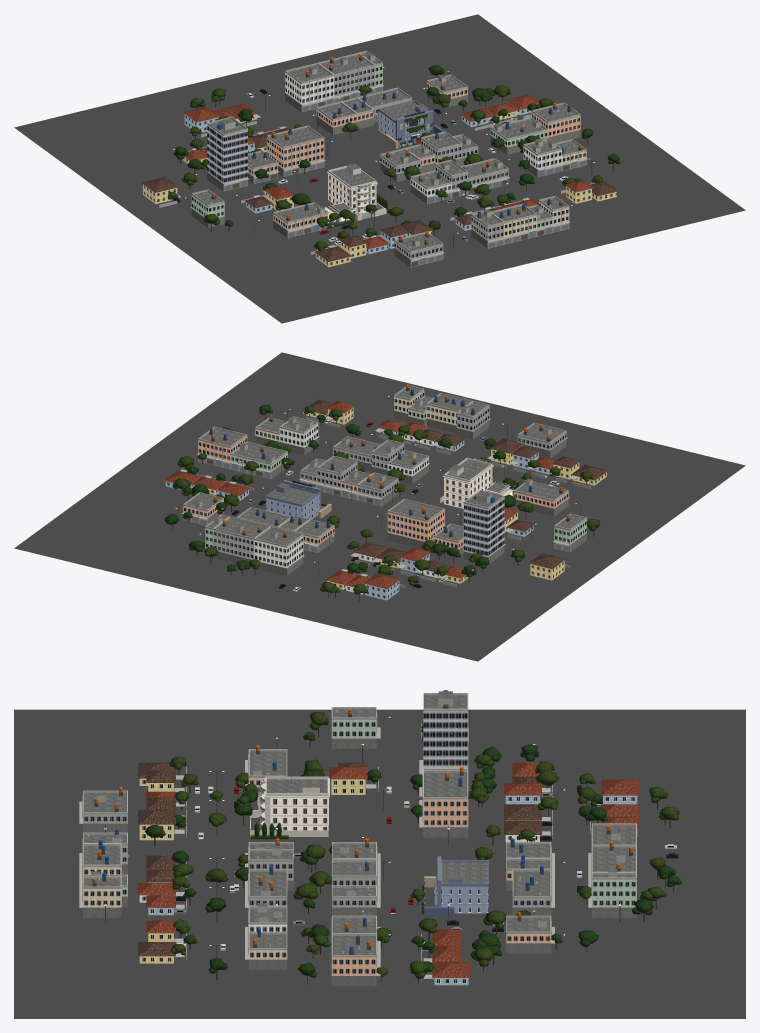
The model's file is city.glb.
The picture shows the model from 3 angles, top to bottom: view 1: azimuth 30°, elevation 25°; view 2: azimuth 150°, elevation 25°; view 3: azimuth 270°, elevation 25°; orthographic projection. The views are drawn at different scales.
Visible parts, largest first — view 1: ground, city, heroes; view 2: ground, city, heroes; view 3: ground, city, heroes.
Part boxes in pixels (<box>): ground: <box>14,14,745,323</box>; city: <box>141,51,620,267</box>; heroes: <box>324,100,443,228</box>; ground: <box>14,352,745,661</box>; city: <box>164,384,608,601</box>; heroes: <box>266,457,523,519</box>; ground: <box>14,709,745,1018</box>; city: <box>79,690,681,986</box>; heroes: <box>242,771,488,917</box>.
Size of the model in its own units: 16 by 2.03 by 16.
44 materials, 26 textured.
